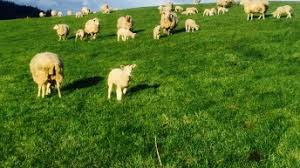sheep: (26, 52, 70, 99), (105, 62, 140, 105), (271, 3, 300, 26), (158, 8, 181, 36), (243, 1, 273, 22), (151, 23, 171, 46), (111, 12, 135, 30), (114, 26, 139, 42), (53, 23, 71, 44), (84, 19, 102, 37), (185, 17, 202, 36), (199, 6, 220, 17), (73, 26, 89, 40), (181, 6, 198, 18), (97, 3, 114, 15), (49, 9, 64, 21), (218, 4, 230, 18), (57, 9, 68, 21), (82, 5, 92, 17), (75, 7, 84, 20), (39, 10, 47, 20), (68, 8, 76, 17)
